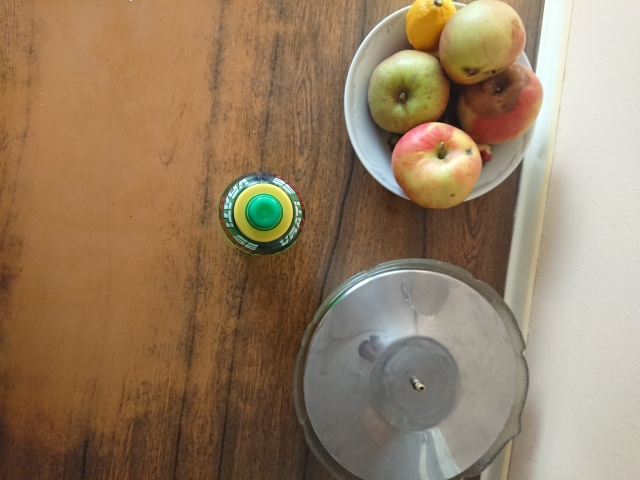Vindi Iso Sport Lemon-Grapefruit 500mL: (214, 170, 308, 259)
